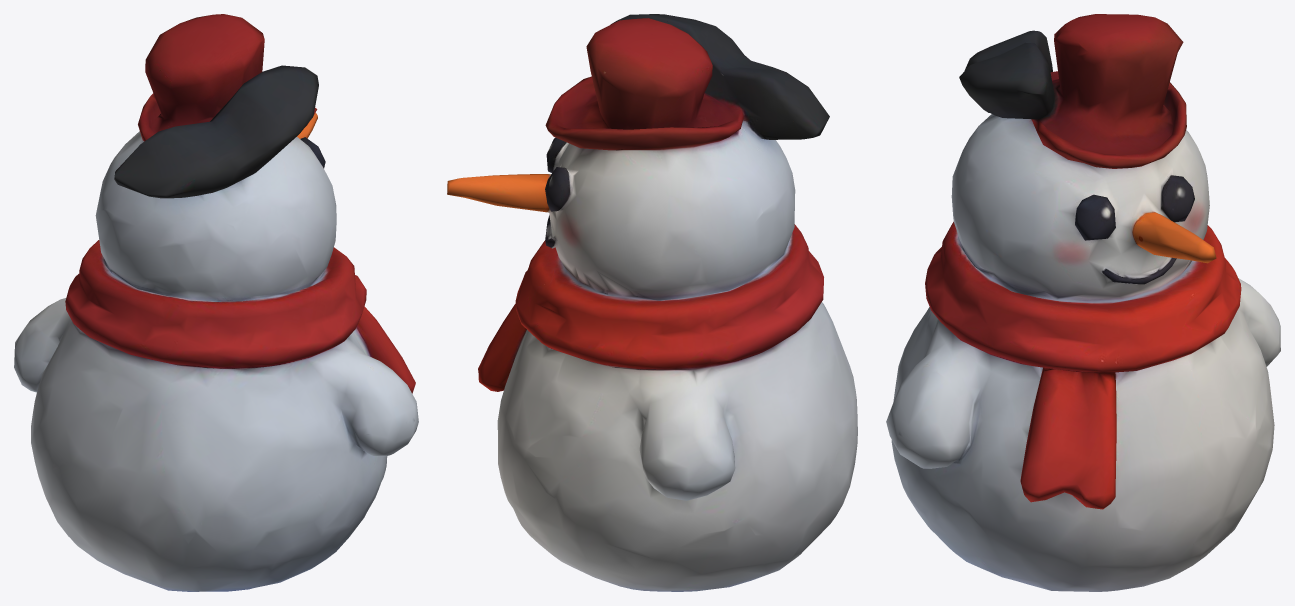
File: snowman_big.glb
The picture shows the model from 3 angles, left to right: view 1: azimuth 30°, elevation 25°; view 2: azimuth 150°, elevation 25°; view 3: azimuth 270°, elevation 25°; orthographic projection. The views are drawn at different scales.
Parts seen in each view (by area): view 1: tripo_node_dc73e1f0-6787-4daa-8d50-9ee3bb40c86a; view 2: tripo_node_dc73e1f0-6787-4daa-8d50-9ee3bb40c86a; view 3: tripo_node_dc73e1f0-6787-4daa-8d50-9ee3bb40c86a.
Boxes of the visible parts, x1,y1,x2,y2 form: tripo_node_dc73e1f0-6787-4daa-8d50-9ee3bb40c86a: (14,14,418,591); tripo_node_dc73e1f0-6787-4daa-8d50-9ee3bb40c86a: (447,14,857,591); tripo_node_dc73e1f0-6787-4daa-8d50-9ee3bb40c86a: (886,14,1280,591).
Size of the model in its own units: 0.6855 by 1 by 0.6566.
1 material, 1 textured.
